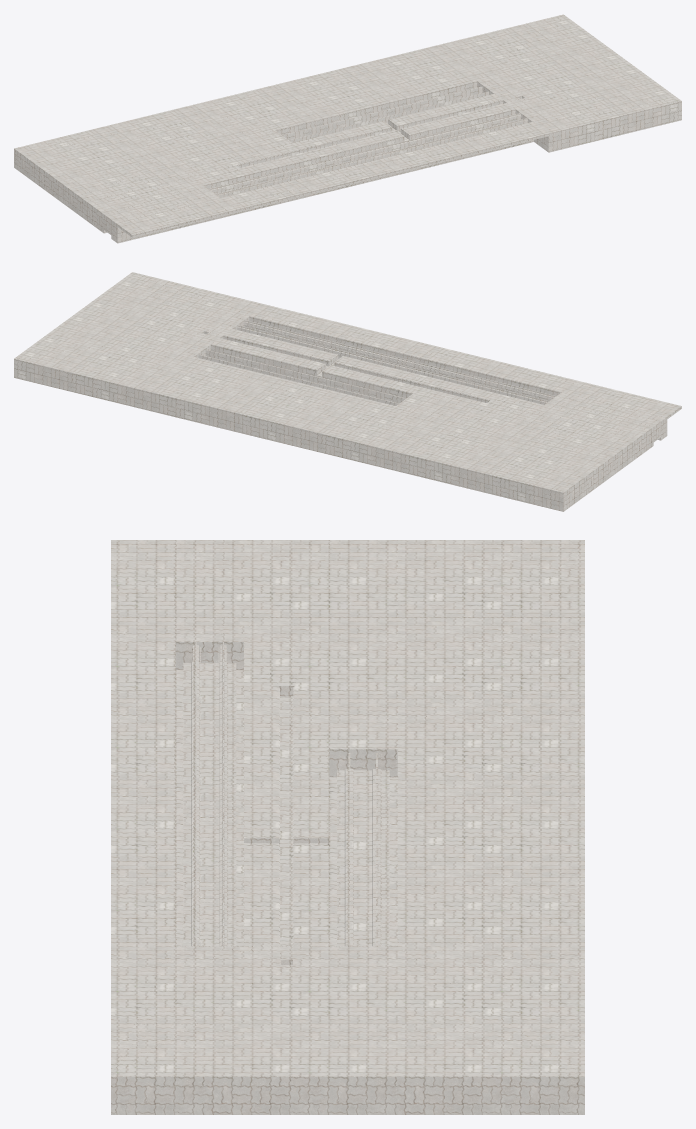
Rendered from SUELO_PBR_E1_2.glb.
The picture shows the model from 3 angles, top to bottom: view 1: azimuth 30°, elevation 25°; view 2: azimuth 150°, elevation 25°; view 3: azimuth 270°, elevation 25°; orthographic projection. The views are drawn at different scales.
Parts seen in each view (by area): view 1: Cortar-Extruir009; view 2: Cortar-Extruir009; view 3: Cortar-Extruir009.
Part boxes in pixels (x1=…): Cortar-Extruir009: x1=14, y1=14, x2=681, y2=243; Cortar-Extruir009: x1=14, y1=272, x2=681, y2=511; Cortar-Extruir009: x1=111, y1=540, x2=584, y2=1114.
Bounding box in the file's own units: 6.6 × 0.22 × 2.46.
1 material, 1 textured.
